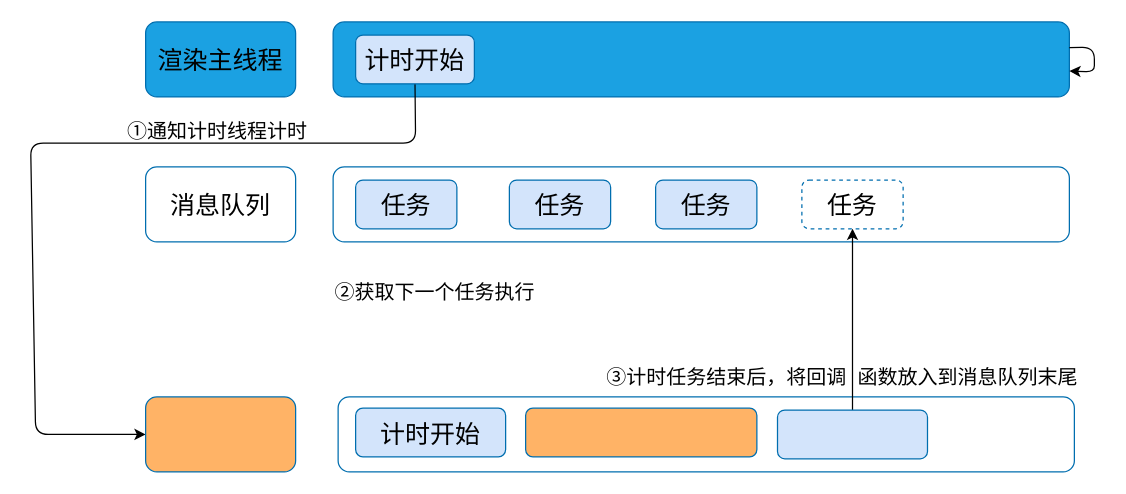
The diagram is 1126 pixels wide and 494 high, and some of its shapes have lost their labels. Each missing label, with the centre of its shape:
计时中...: the point at 640,432
计时线程: the point at 220,434
计时结束: the point at 852,434
